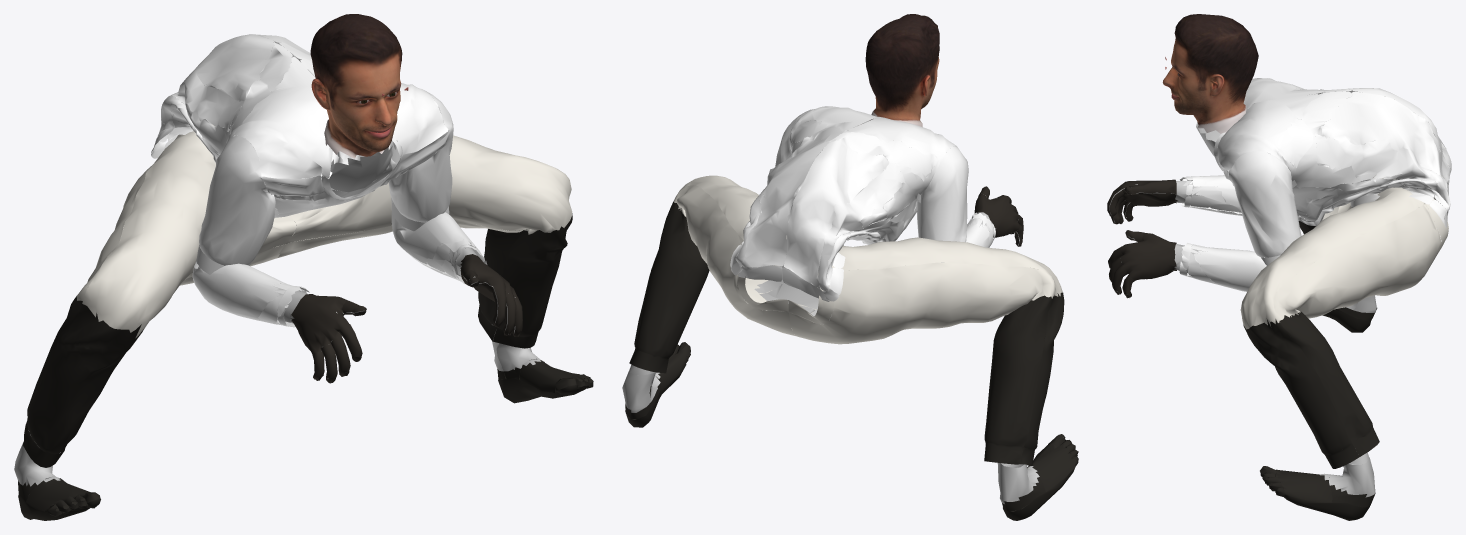
Rendered from JockeyScan.fbx.
3 views of the same model, side by side, from view 1: azimuth 30°, elevation 25°; view 2: azimuth 150°, elevation 25°; view 3: azimuth 270°, elevation 25° (orthographic). The views are drawn at different scales.
Parts seen in each view (by area): view 1: Pants, Shirt, ScannedJockeyHead, cm_vitruvian, RacingSleeves, FittedRacingGloves; view 2: Pants, Shirt, cm_vitruvian, ScannedJockeyHead, FittedRacingGloves, RacingSleeves; view 3: Shirt, Pants, ScannedJockeyHead, cm_vitruvian, FittedRacingGloves, RacingSleeves.
Part boxes in pixels (left/top/right/bottom): Pants: left=22, top=124, right=572, bottom=467; Shirt: left=151, top=34, right=453, bottom=274; ScannedJockeyHead: left=310, top=14, right=402, bottom=158; cm_vitruvian: left=14, top=85, right=593, bottom=520; RacingSleeves: left=192, top=142, right=487, bottom=327; FittedRacingGloves: left=290, top=254, right=522, bottom=383; Pants: left=629, top=175, right=1064, bottom=465; Shirt: left=730, top=106, right=968, bottom=301; cm_vitruvian: left=622, top=142, right=1078, bottom=520; ScannedJockeyHead: left=858, top=14, right=939, bottom=126; FittedRacingGloves: left=974, top=186, right=1023, bottom=246; RacingSleeves: left=809, top=169, right=995, bottom=247; Shirt: left=1213, top=78, right=1451, bottom=265; Pants: left=1240, top=175, right=1448, bottom=468; ScannedJockeyHead: left=1162, top=14, right=1258, bottom=133; cm_vitruvian: left=1109, top=122, right=1377, bottom=520; FittedRacingGloves: left=1107, top=179, right=1178, bottom=298; RacingSleeves: left=1179, top=175, right=1266, bottom=291.
Bounding box in the file's own units: 157 × 140 × 108.
